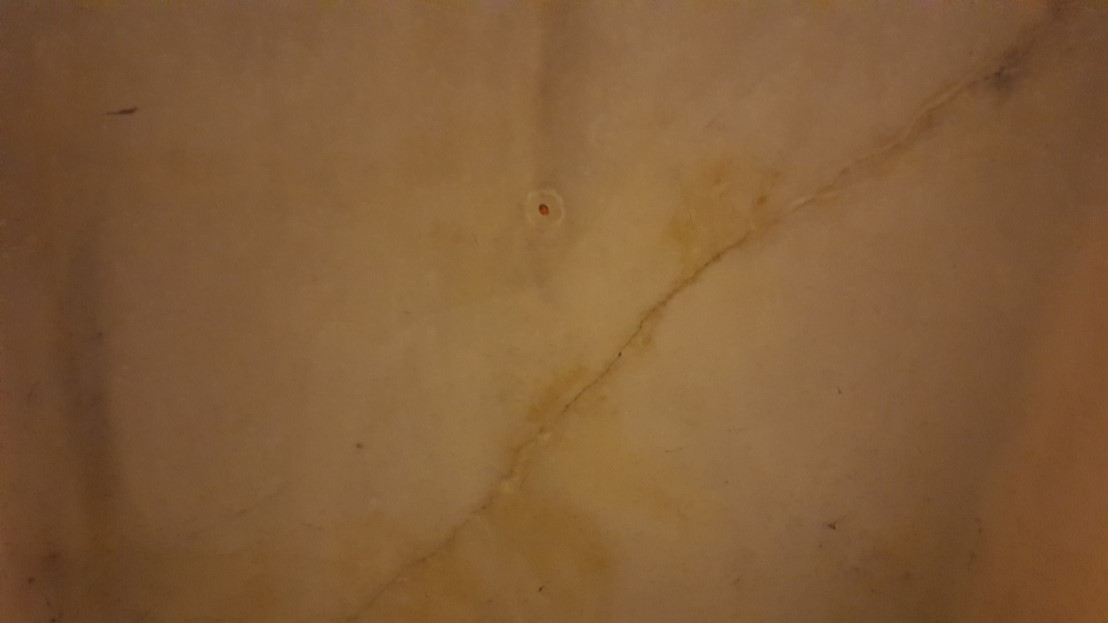Crack: (313, 0, 1108, 623)
